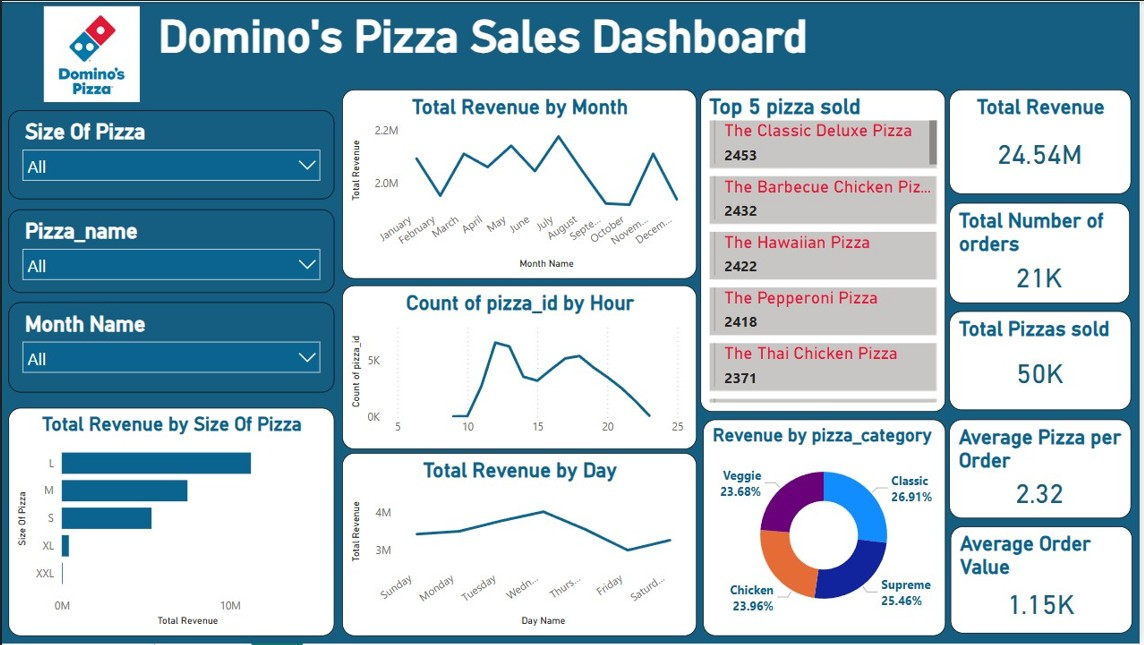

The dashboard page shown, as its layout file describes it:
{"tool":"powerbi","page":{"name":"Page 1","canvas":[1280,720],"ordinal":0},"visuals":[{"type":"textbox","box":[112,4,1154,100],"z":0},{"type":"card","title":"Total Revenue","fields":{"Values":["Pizza Measures.Total Revenue"]},"box":[1066.2,98.4,204,117.2],"z":1000},{"type":"card","title":"Total Number of orders","fields":{"Values":["Pizza Measures.Total orders"]},"box":[1066.2,225.7,202.5,112.8],"z":2000},{"type":"card","title":"Average Order Value","fields":{"Values":["Pizza Measures.Average Order Value"]},"box":[1067.6,588.8,204,120.1],"z":3000},{"type":"card","title":"Total Pizzas sold","fields":{"Values":["Pizza Measures.Total Pizzas sold"]},"box":[1066.2,347.2,204,111.4],"z":4000},{"type":"card","title":"Average Pizza per Order","fields":{"Values":["Pizza Measures.Average Pizza per Order"]},"box":[1066.2,468.7,204,111.4],"z":5000},{"type":"lineChart","title":"Total Revenue by Month ","fields":{"Category":["Dominos.Month Name"],"Y":["Pizza Measures.Total Revenue"]},"box":[384.8,98.4,397.8,212.6],"z":6000},{"type":"multiRowCard","title":"Top 5 pizza sold","fields":{"Values":["Dominos.pizza_name","Sum(Dominos.quantity)"]},"box":[787,98.4,274.9,361.7],"z":7000},{"type":"donutChart","title":"Revenue by pizza_category","fields":{"Y":["Pizza Measures.Total Revenue"],"Category":["Dominos.pizza_category"]},"box":[789.9,468.7,272,243],"z":8000},{"type":"lineChart","fields":{"Category":["Dominos.Hour"],"Y":["CountNonNull(Dominos.pizza_id)"]},"box":[384.8,318.3,397.8,183.7],"z":9000},{"type":"lineChart","title":"Total Revenue by Day","fields":{"Category":["Dominos.Day Name"],"Y":["Pizza Measures.Total Revenue"]},"box":[384.8,506.3,397.8,205.4],"z":10000},{"type":"barChart","fields":{"Category":["Dominos.Size Of Pizza"],"Y":["Pizza Measures.Total Revenue"]},"box":[10.1,455.7,366,256.1],"z":11000},{"type":"image","box":[0,0,208.3,117.2],"z":12000},{"type":"slicer","fields":{"Values":["Dominos.Size Of Pizza"]},"box":[10,122,366,100],"z":13000},{"type":"slicer","fields":{"Values":["Dominos.pizza_name"]},"box":[10.1,232.9,366,94],"z":14000},{"type":"slicer","fields":{"Values":["Dominos.Month Name"]},"box":[10.1,337.1,366,101.3],"z":15000}]}

Visuals, with their boxes in screenshot pixels (x1, y1, x2, y2), scaled from the page's 1280x720 canvas onto the 1144x645 screenshot:
textbox: pyautogui.locateOnScreen(100, 4, 1131, 93)
"Total Revenue" card: pyautogui.locateOnScreen(953, 88, 1135, 193)
"Total Number of orders" card: pyautogui.locateOnScreen(953, 202, 1134, 303)
"Average Order Value" card: pyautogui.locateOnScreen(954, 527, 1136, 635)
"Total Pizzas sold" card: pyautogui.locateOnScreen(953, 311, 1135, 411)
"Average Pizza per Order" card: pyautogui.locateOnScreen(953, 420, 1135, 520)
"Total Revenue by Month " lineChart: pyautogui.locateOnScreen(344, 88, 699, 279)
"Top 5 pizza sold" multiRowCard: pyautogui.locateOnScreen(703, 88, 949, 412)
"Revenue by pizza_category" donutChart: pyautogui.locateOnScreen(706, 420, 949, 638)
lineChart - Dominos.Hour x CountNonNull(Dominos.pizza_id): pyautogui.locateOnScreen(344, 285, 699, 450)
"Total Revenue by Day" lineChart: pyautogui.locateOnScreen(344, 454, 699, 638)
barChart - Dominos.Size Of Pizza x Pizza Measures.Total Revenue: pyautogui.locateOnScreen(9, 408, 336, 638)
image: pyautogui.locateOnScreen(0, 0, 186, 105)
slicer - Dominos.Size Of Pizza: pyautogui.locateOnScreen(9, 109, 336, 199)
slicer - Dominos.pizza_name: pyautogui.locateOnScreen(9, 209, 336, 293)
slicer - Dominos.Month Name: pyautogui.locateOnScreen(9, 302, 336, 393)
